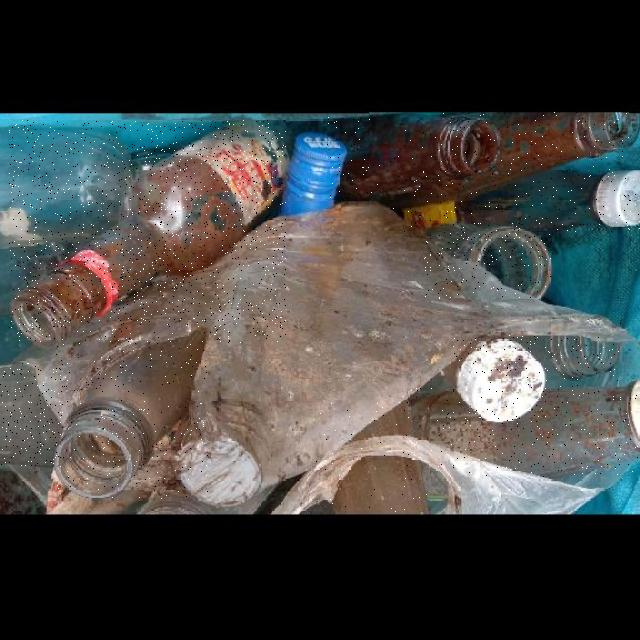glass: (9, 121, 286, 343), (54, 327, 208, 499), (370, 112, 629, 212), (409, 379, 639, 477), (327, 117, 501, 200), (404, 171, 640, 232), (316, 401, 429, 513), (424, 223, 553, 299), (452, 338, 548, 424), (0, 363, 63, 467), (508, 335, 621, 379)
